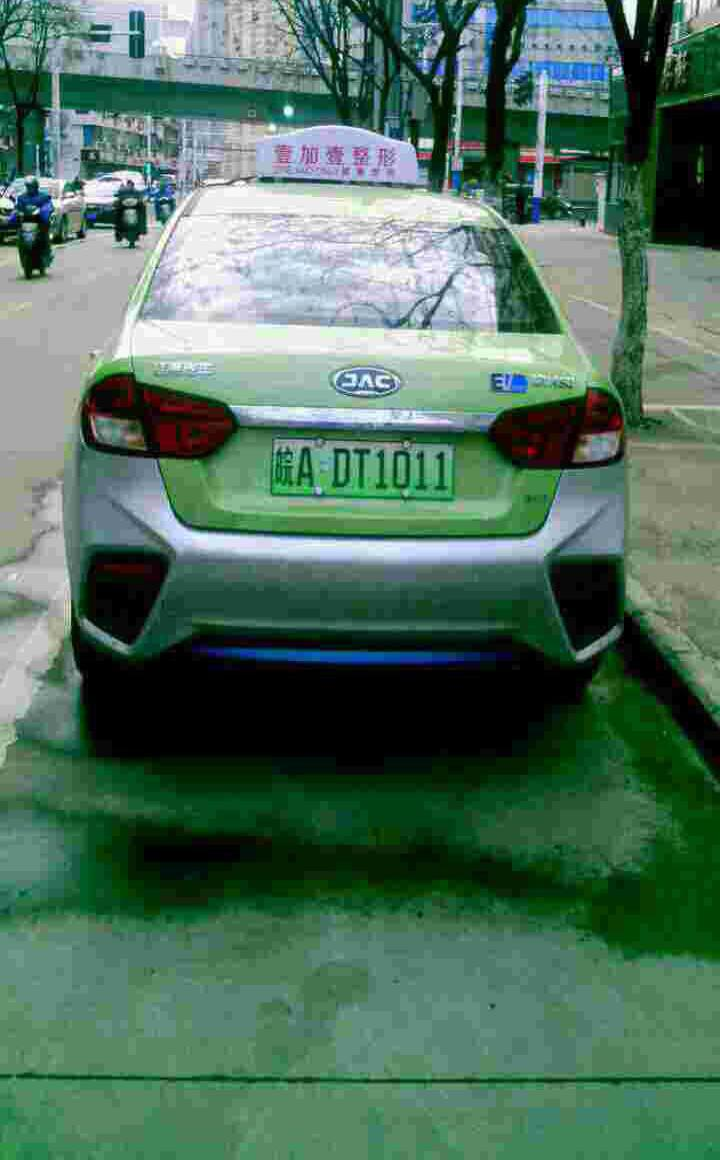car: (273, 434, 456, 502)
